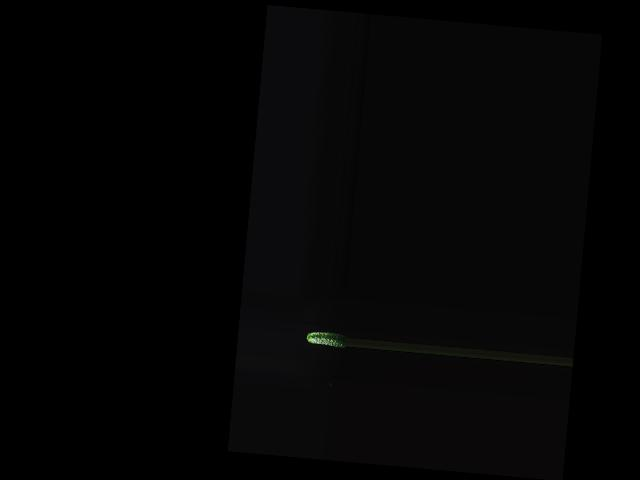cucumber: (305, 330, 348, 348)
